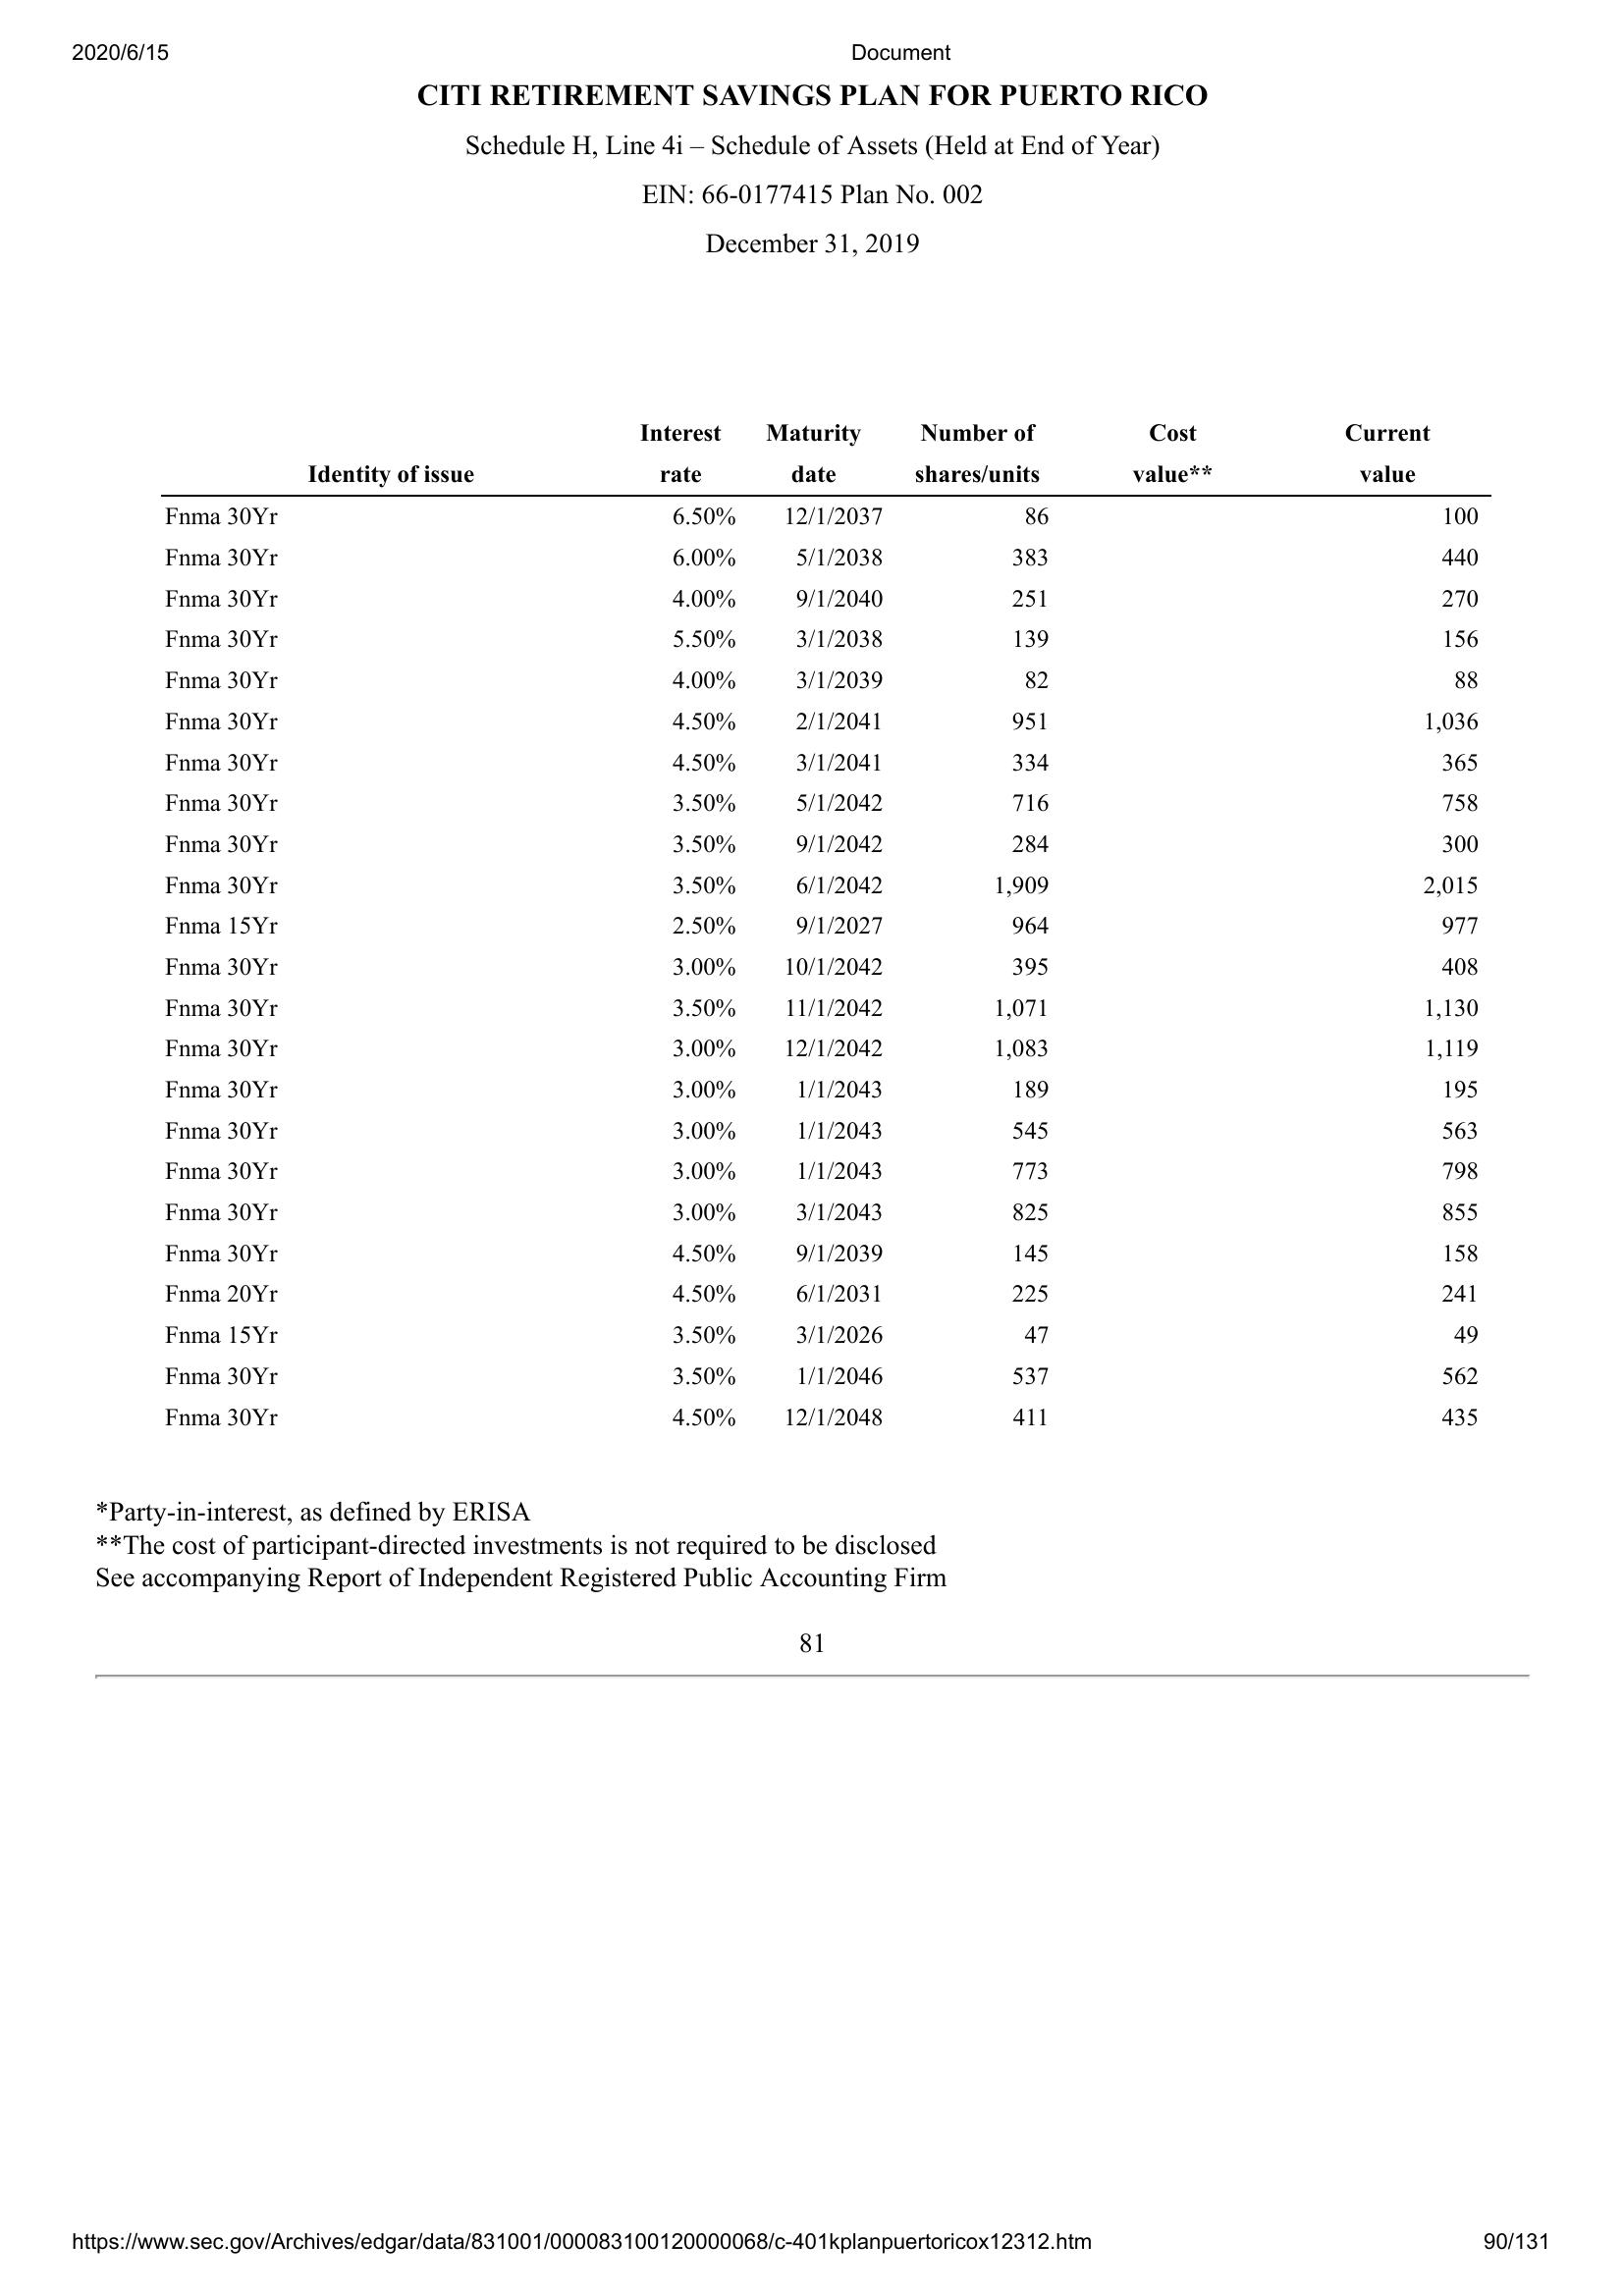table: (148, 418, 1498, 1438)
